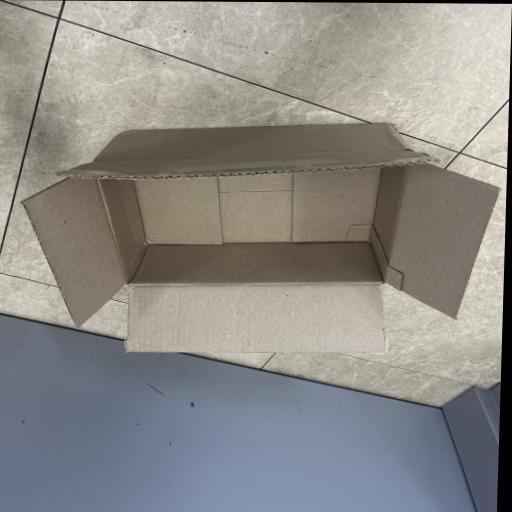box: (21, 123, 502, 354)
opened: (22, 160, 502, 354)
